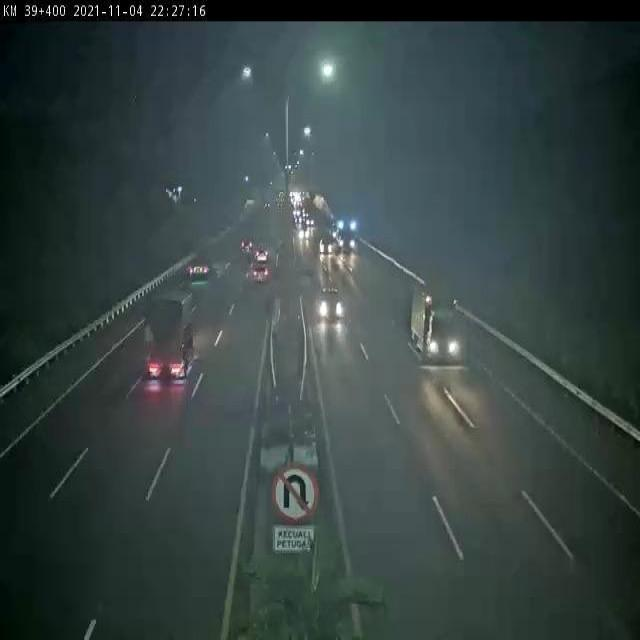car: (318, 286, 343, 318), (253, 245, 269, 268), (253, 264, 269, 283)
truck-m-: (141, 296, 193, 383), (412, 284, 465, 364), (188, 244, 212, 280)
